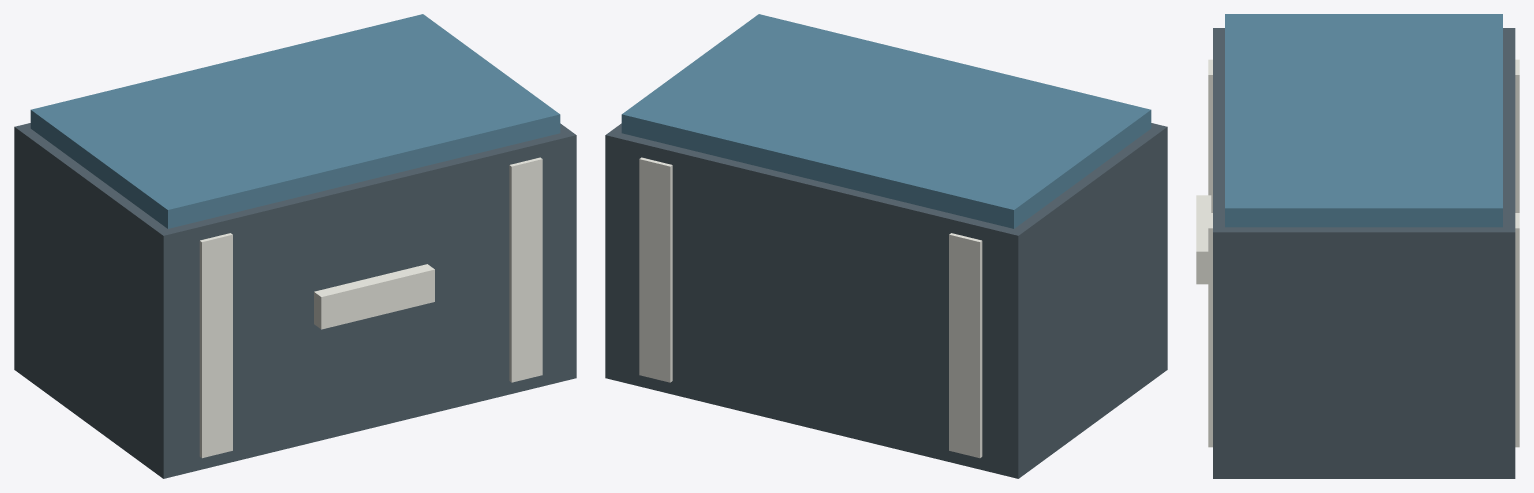
File: american-football-stadium-kit-communications-case-def4d998__22336.glb
The picture shows the model from 3 angles, left to right: view 1: azimuth 30°, elevation 25°; view 2: azimuth 150°, elevation 25°; view 3: azimuth 270°, elevation 25°; orthographic projection.
Visible parts, largest first — view 1: communications-case; view 2: communications-case; view 3: communications-case.
Part boxes in pixels (x1,y1,x2,y2): communications-case: [14, 14, 576, 478]; communications-case: [605, 14, 1167, 478]; communications-case: [1196, 14, 1519, 478].
Size of the model in its own units: 0.8 by 0.485 by 0.535.
